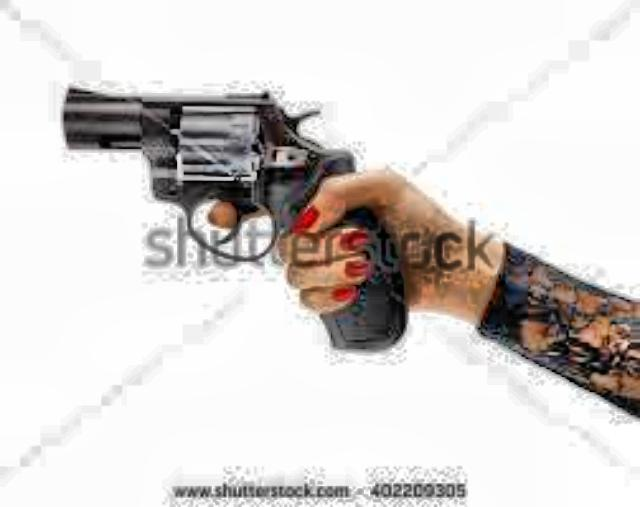pistol: (51, 78, 409, 357)
